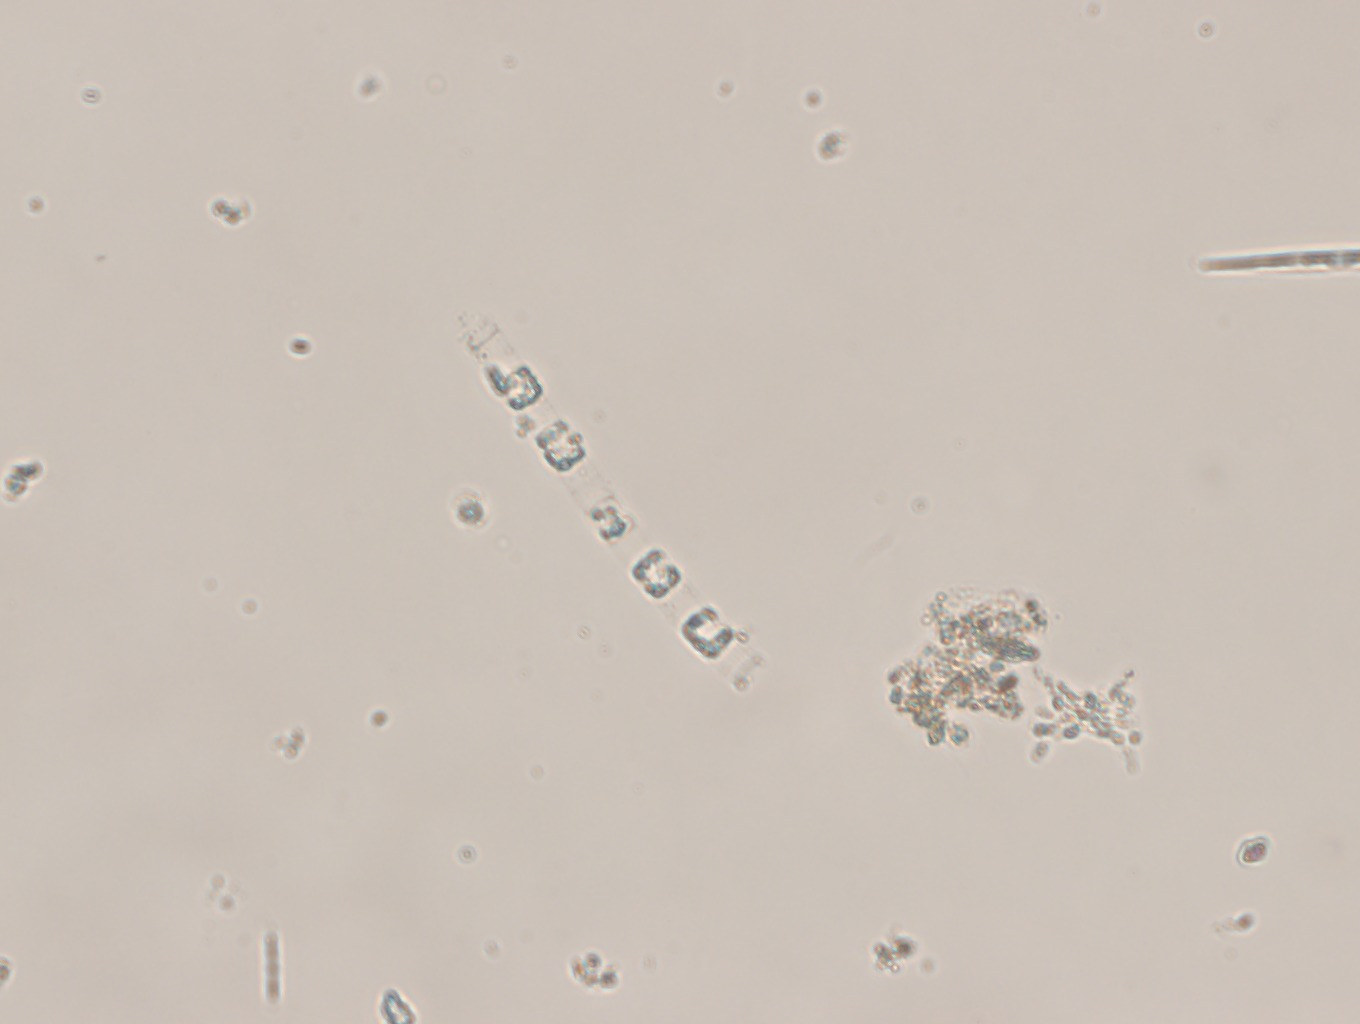skeletonema: (458, 312, 759, 693)
